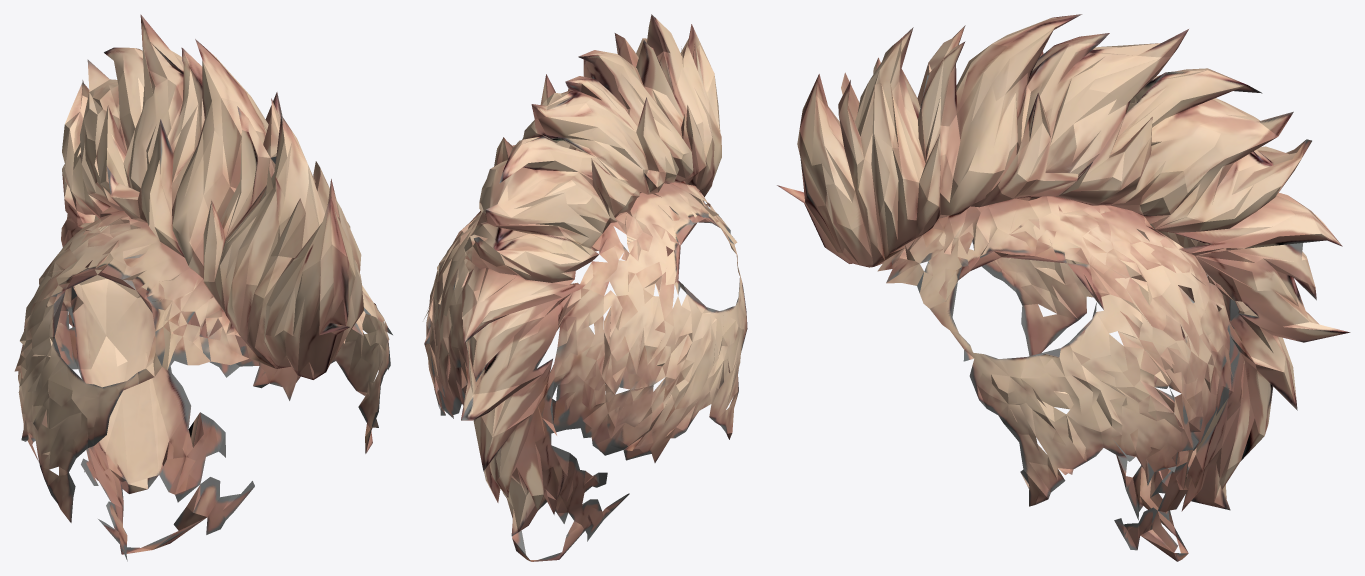
File: fennal_m-crete.glb
The picture shows the model from 3 angles, left to right: view 1: azimuth 30°, elevation 25°; view 2: azimuth 150°, elevation 25°; view 3: azimuth 270°, elevation 25°; orthographic projection. The views are drawn at different scales.
Visible parts, largest first — view 1: geometry_0; view 2: geometry_0; view 3: geometry_0.
Part boxes in pixels (x1,y1,x2,y2): geometry_0: (14, 14, 392, 561); geometry_0: (424, 14, 747, 561); geometry_0: (777, 14, 1350, 561).
Bounding box in the file's own units: 1.2 × 1.9 × 1.83.
1 material, 1 textured.
